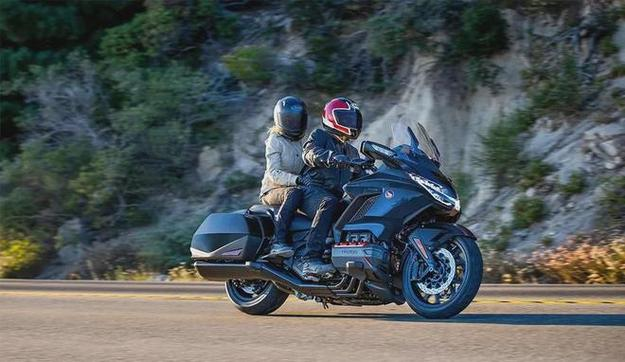摩托车: (185, 140, 482, 318)
